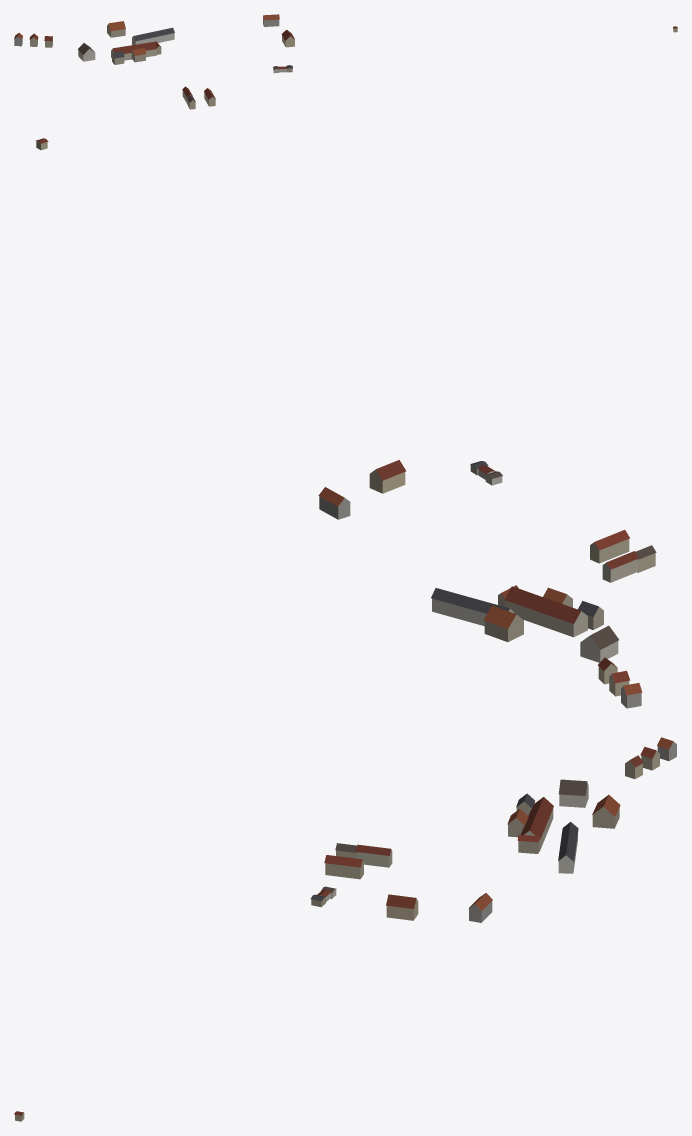
The picture shows the model from 3 angles, top to bottom: view 1: azimuth 30°, elevation 25°; view 2: azimuth 150°, elevation 25°; view 3: azimuth 270°, elevation 25°; orthographic projection. The views are drawn at different scales.
Parts seen in each view (by area): view 1: buildings; view 2: buildings; view 3: buildings.
Part boxes in pixels (x1,y1,x2,y2): buildings: (14, 14, 677, 109); buildings: (35, 138, 656, 708); buildings: (14, 737, 676, 1121).
Size of the model in its own units: 437 by 44.15 by 291.
